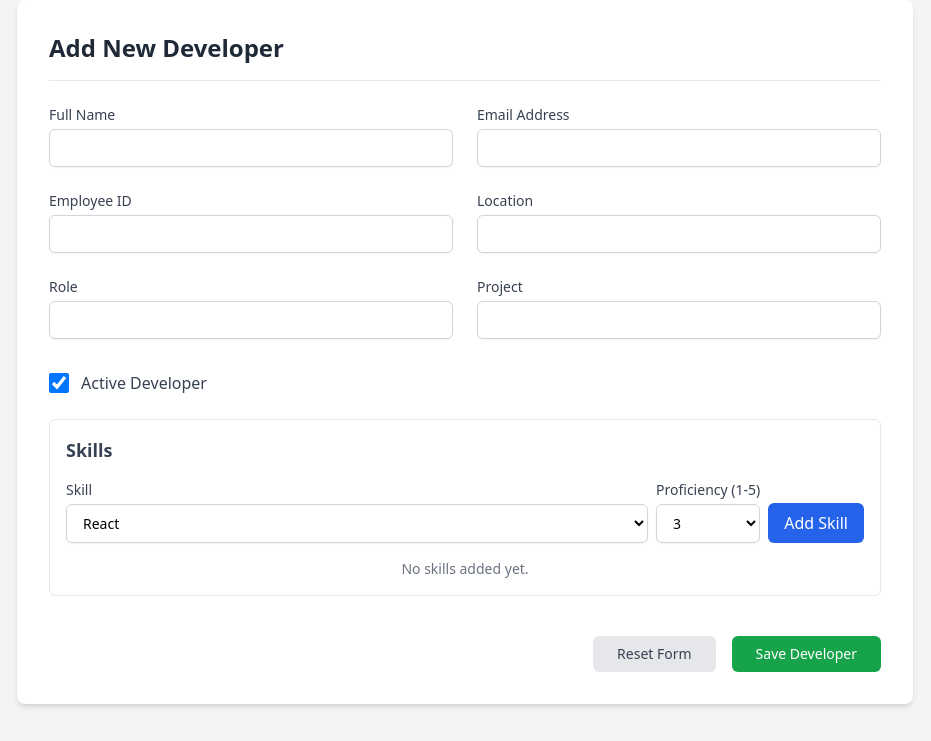
Scenario: AddDeveloperForm Component › allows adding and removing skills
// Add TypeScript skill
Select "TypeScript" in the dropdown labelled "Skill" at (357, 524), box [66,504,648,543]
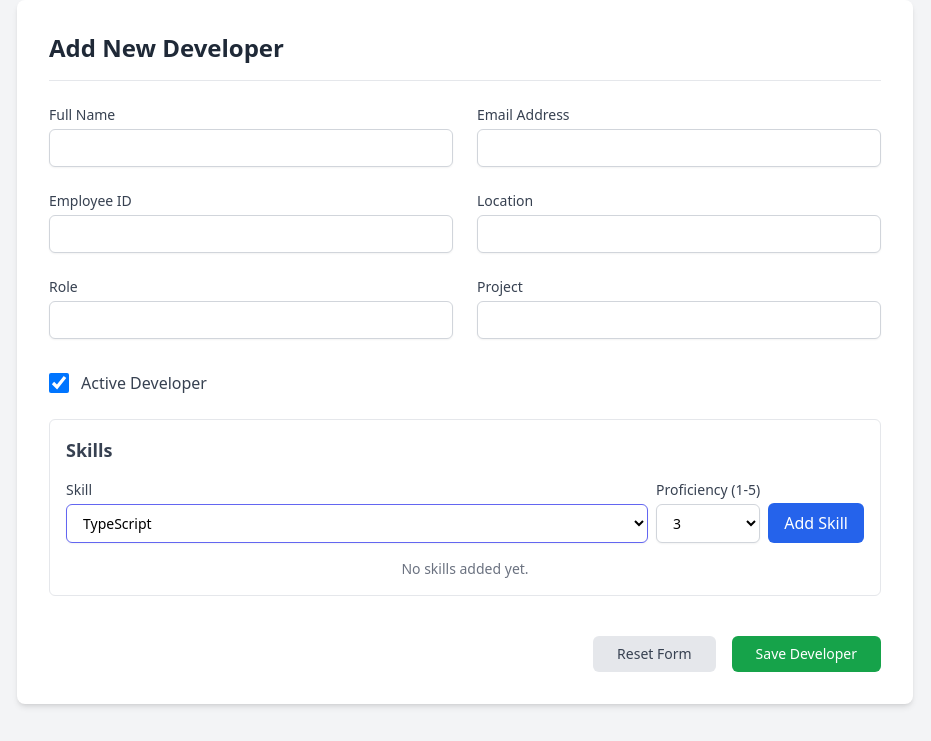
Click the button "Add Skill".
click(816, 523)  # box [768,503,864,543]
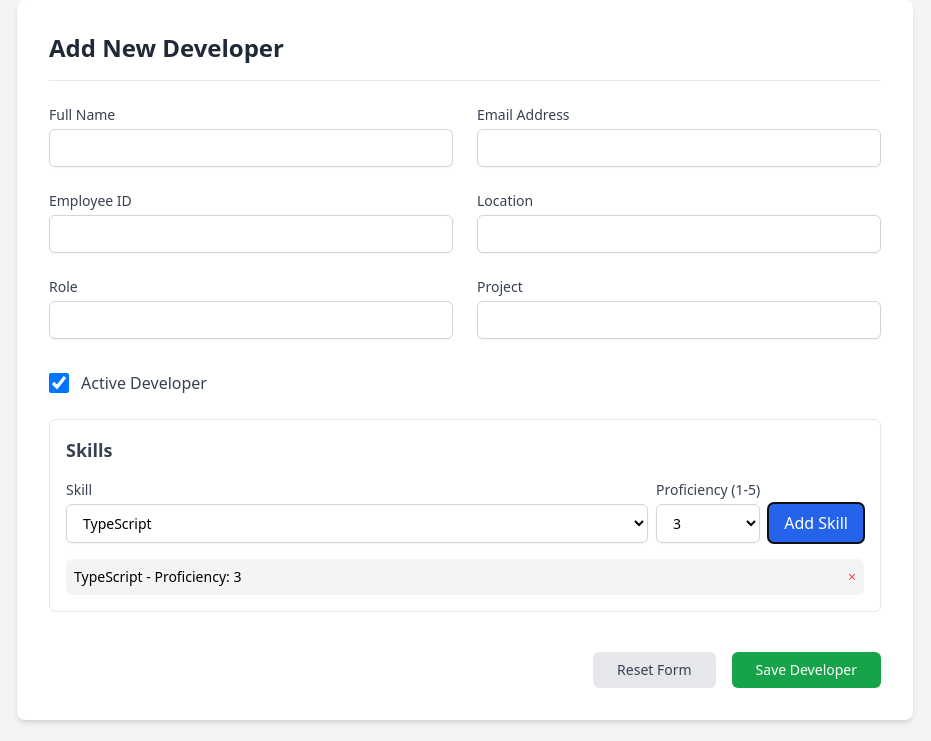
Check: the text "TypeScript - Proficiency: 3" is shown, box [74,567,241,587]
// Remove TypeScript skill
Click the button "×".
click(852, 577)  # box [848,567,856,587]
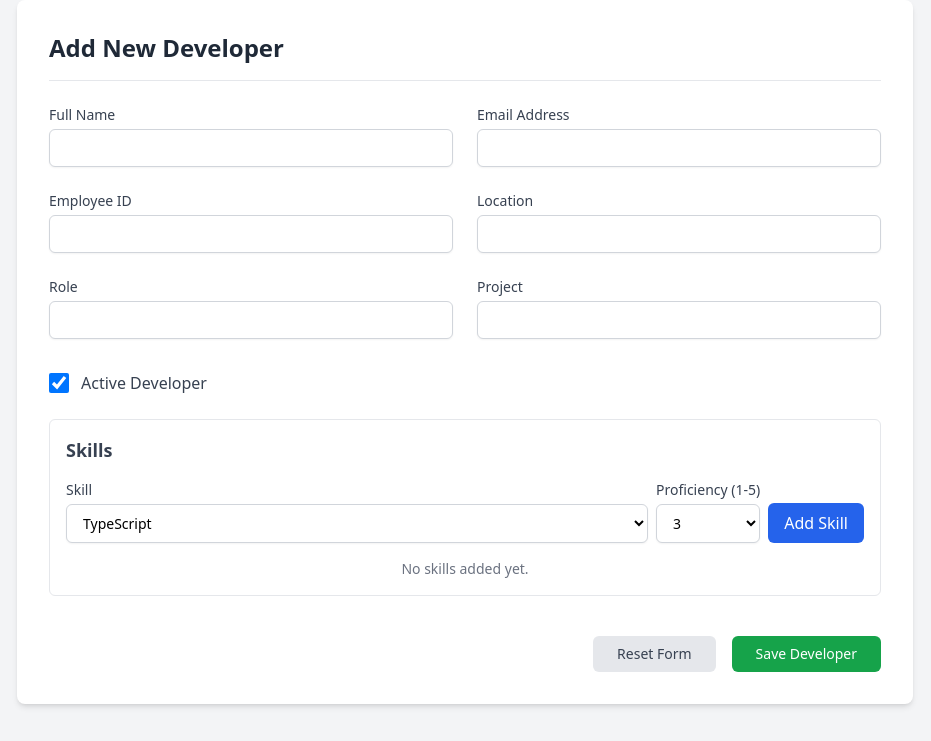
Check: the text "TypeScript - Proficiency: 3" is gone
